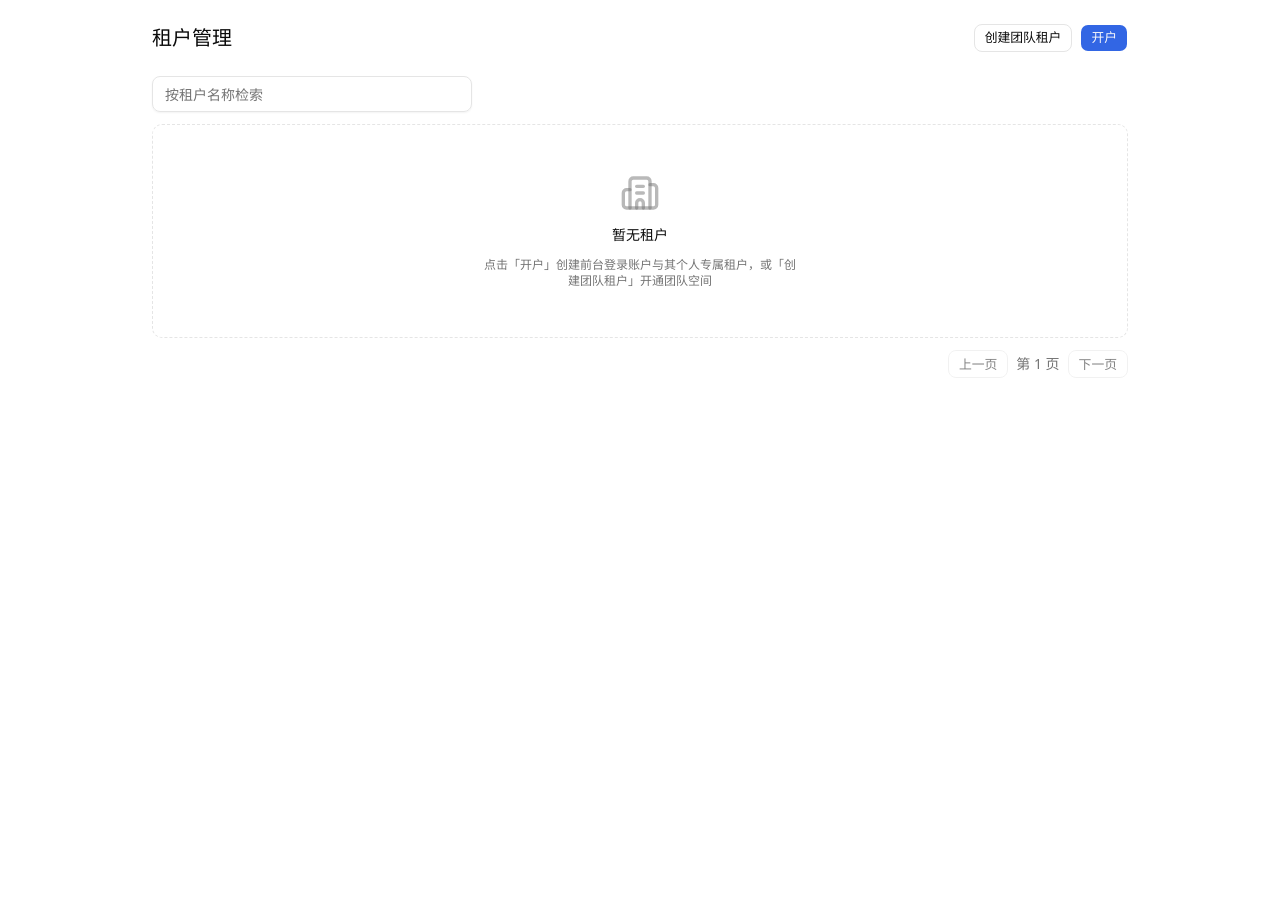
Test: TenantsPage › 开户表单本地校验密码至少 6 位
The image size is (1280, 900).
Click the button "开户": (1104, 38) [1080,24,1128,52]
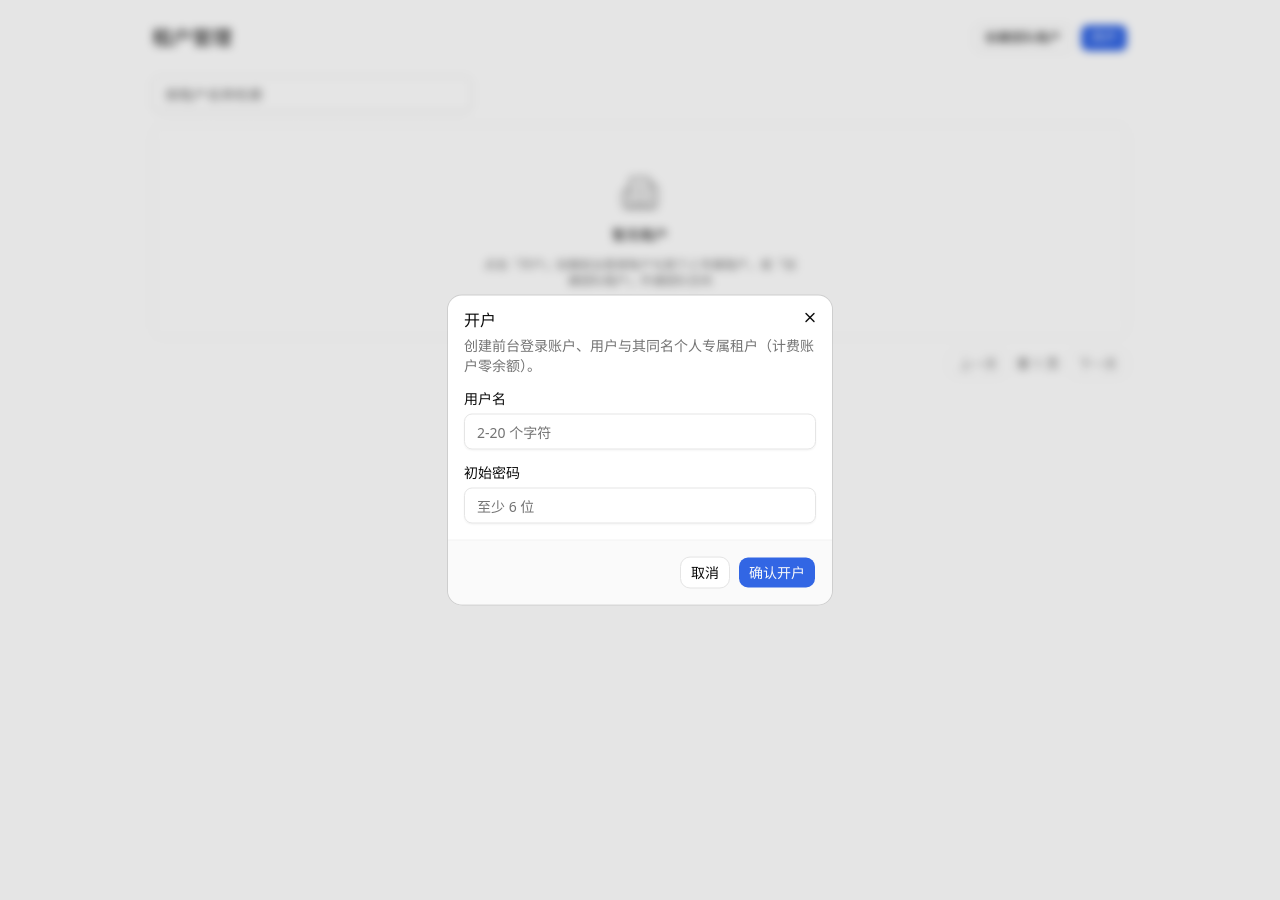
In the field labelled "用户名": (640, 432) [464,414,816,450], type "alice"
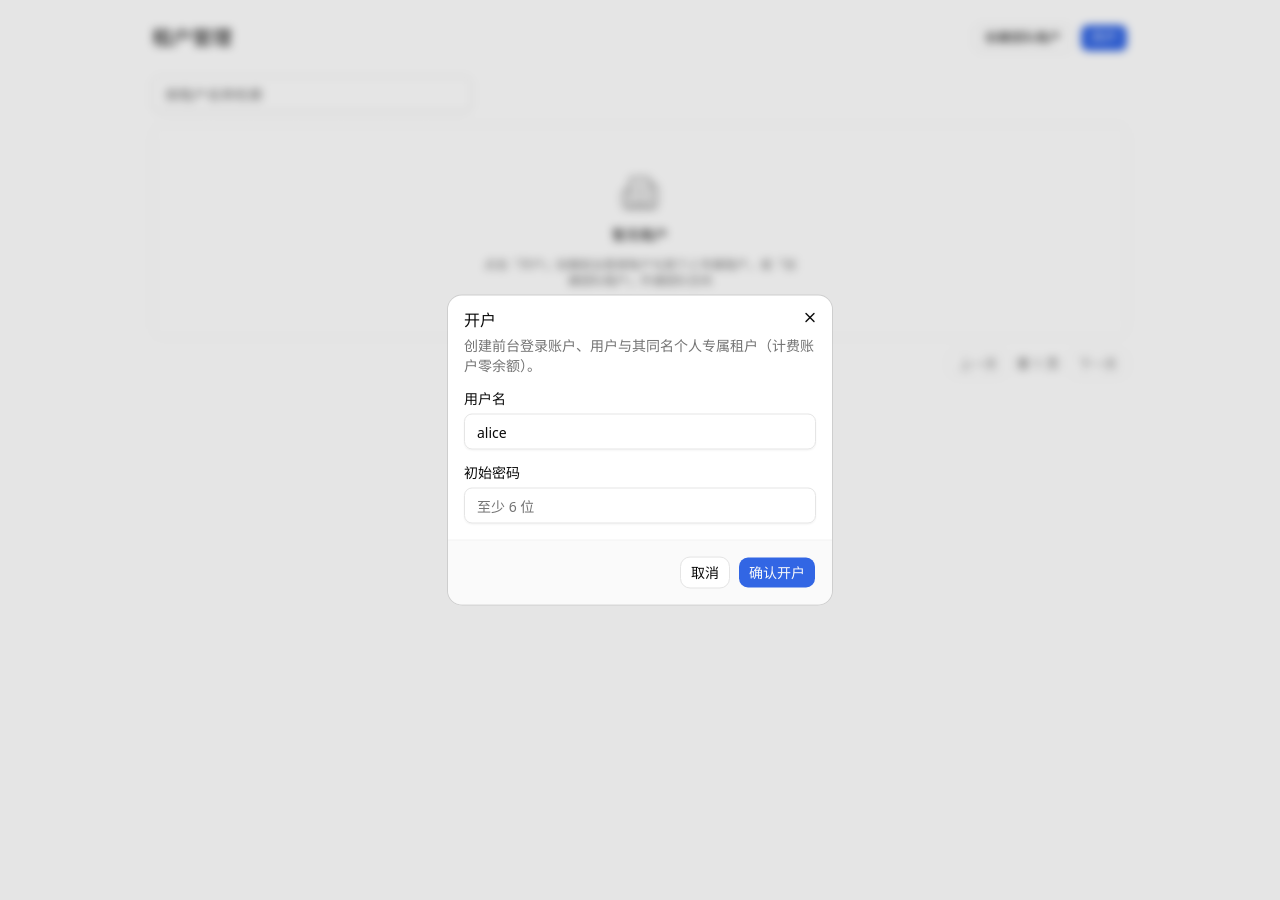
In the password field labelled "初始密码": (640, 506) [464,488,816,524], type "123"
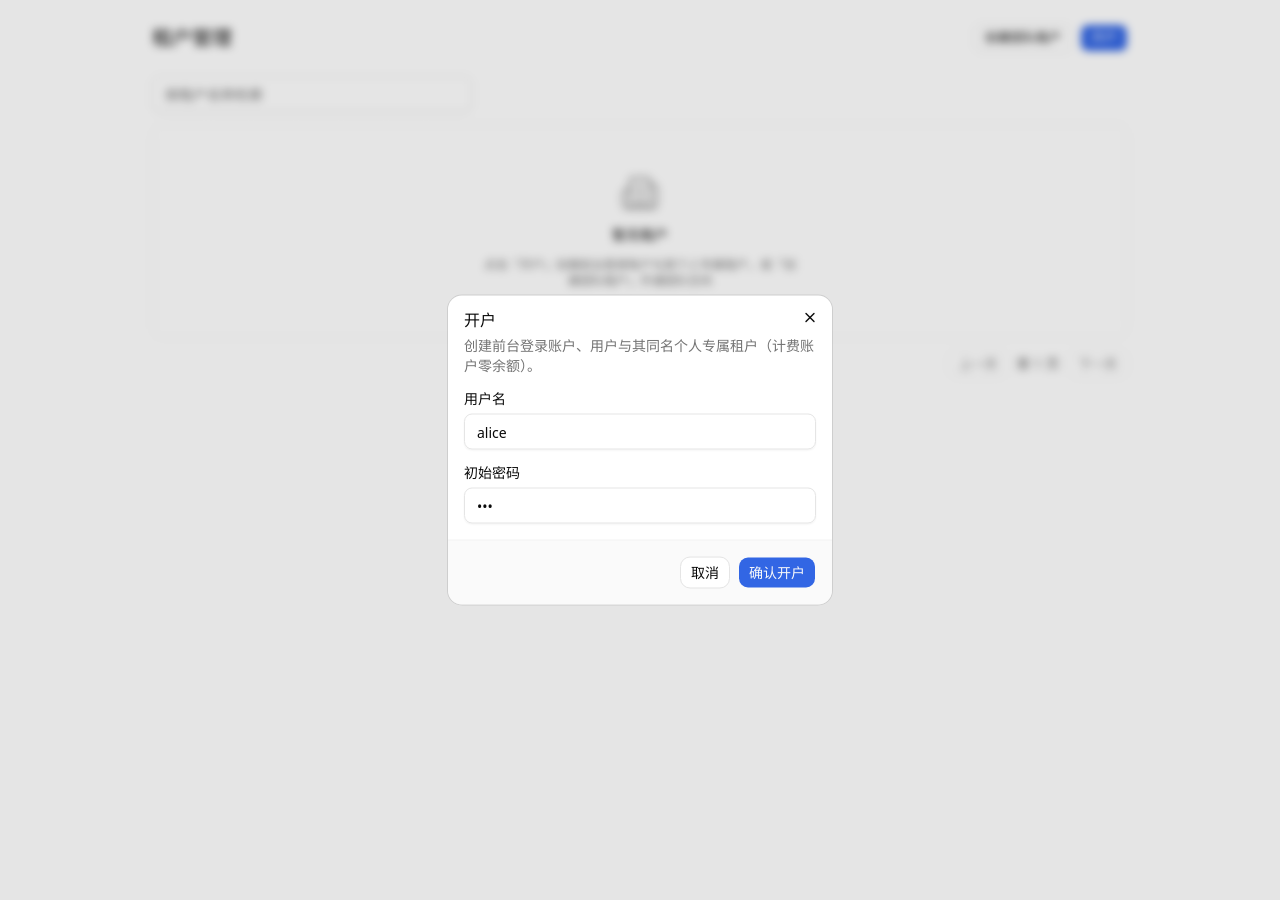
Click the button "确认开户": (777, 572) [738,556,816,588]
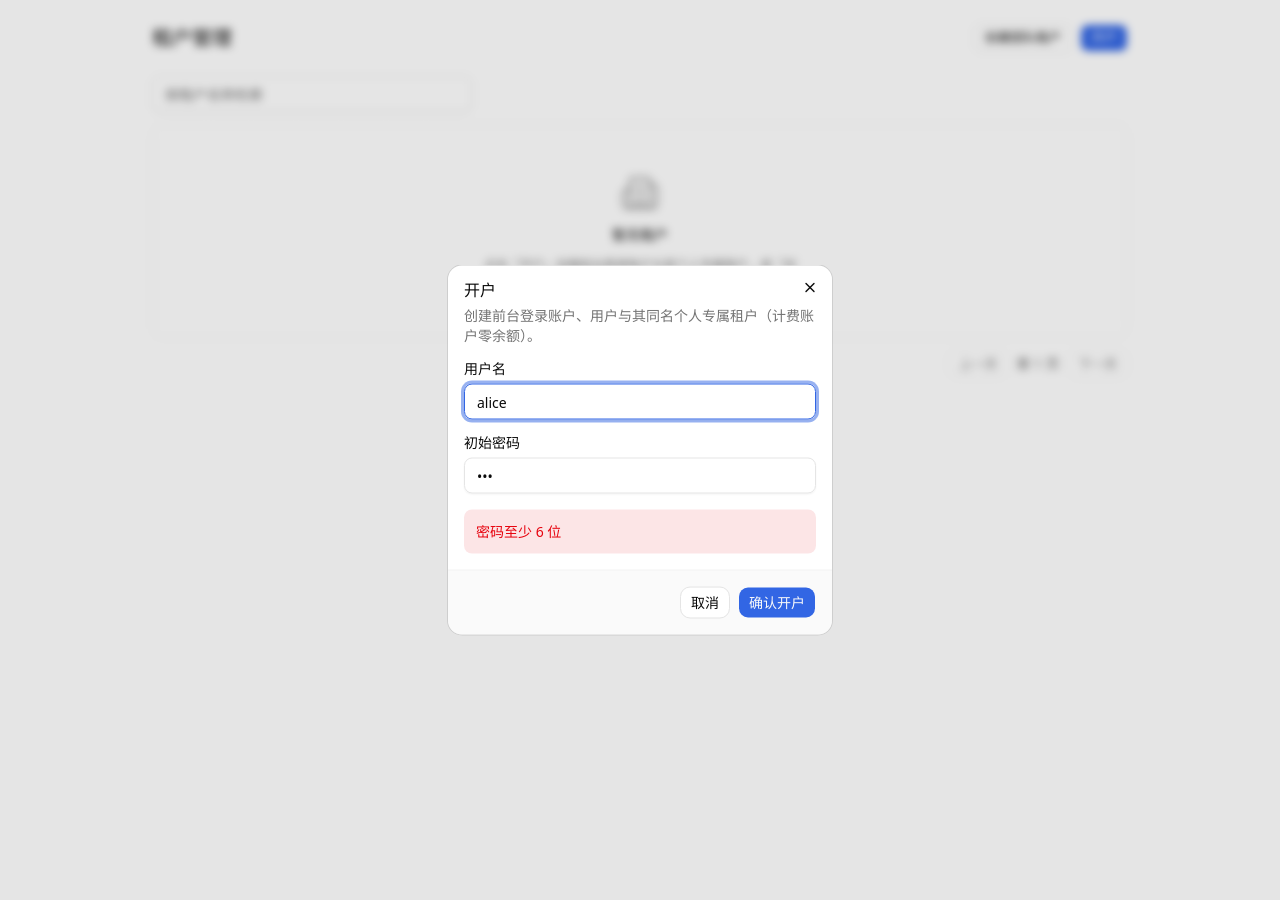
Check: the message reads "密码至少 6 位", box [476,522,561,540]
